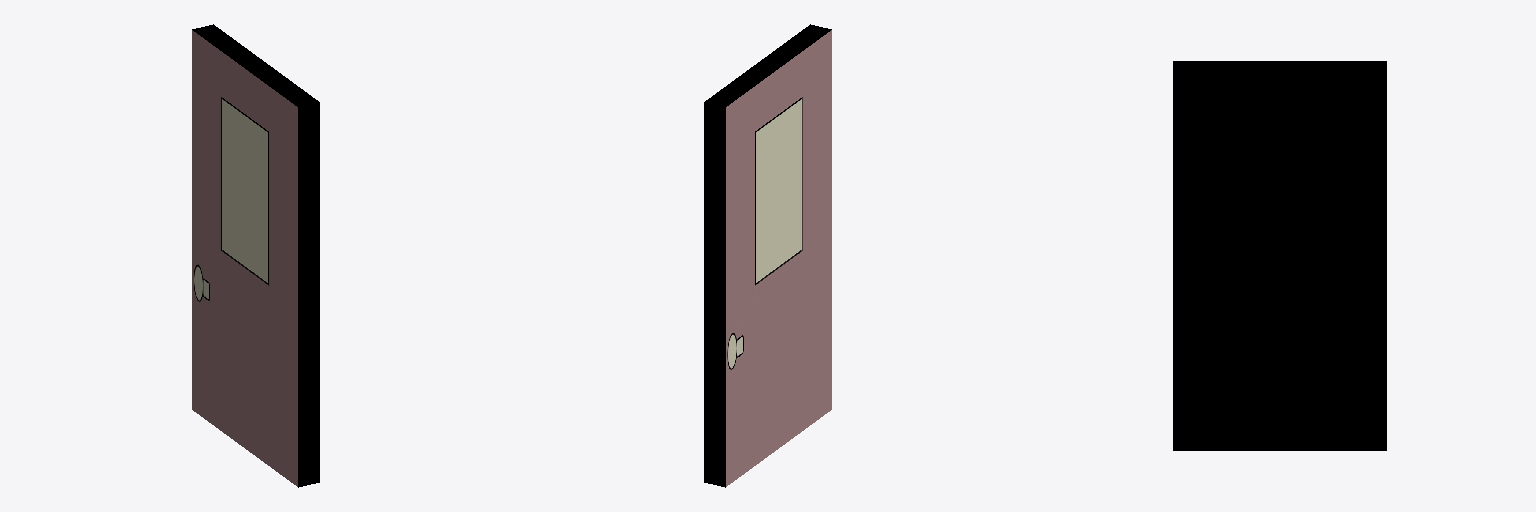
The picture shows the model from 3 angles: view 1: azimuth 30°, elevation 25°; view 2: azimuth 150°, elevation 25°; view 3: azimuth 270°, elevation 25°; orthographic projection.
Visible parts, largest first — view 1: InteriorDoor:InteriorDoor; view 2: InteriorDoor:InteriorDoor; view 3: InteriorDoor:InteriorDoor.
Part boxes in pixels (bbox=[...]): InteriorDoor:InteriorDoor: bbox=[192, 24, 319, 487]; InteriorDoor:InteriorDoor: bbox=[704, 24, 831, 487]; InteriorDoor:InteriorDoor: bbox=[1173, 61, 1386, 450].
Bounding box in the file's own units: 15.79 × 264 × 134.
3 materials, 1 textured.